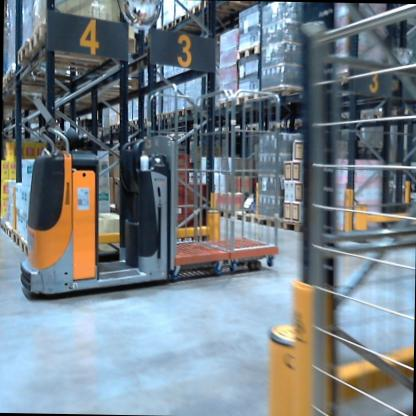pallet: (26, 22, 109, 67), (16, 38, 112, 69), (186, 3, 242, 28), (4, 63, 62, 86), (173, 11, 228, 35), (262, 84, 308, 105), (203, 0, 264, 15), (281, 214, 314, 238), (233, 40, 262, 61), (234, 206, 260, 226), (359, 107, 388, 124), (258, 212, 286, 228), (161, 18, 184, 37), (236, 89, 261, 106), (279, 115, 306, 128), (386, 108, 409, 123), (241, 120, 260, 137), (216, 203, 238, 216), (185, 102, 202, 118), (218, 96, 237, 110), (170, 106, 185, 121), (266, 120, 286, 131), (20, 239, 31, 258), (160, 108, 171, 123), (13, 230, 23, 246), (0, 217, 9, 233), (7, 222, 13, 241)
pallet_truck: (21, 92, 185, 304)
